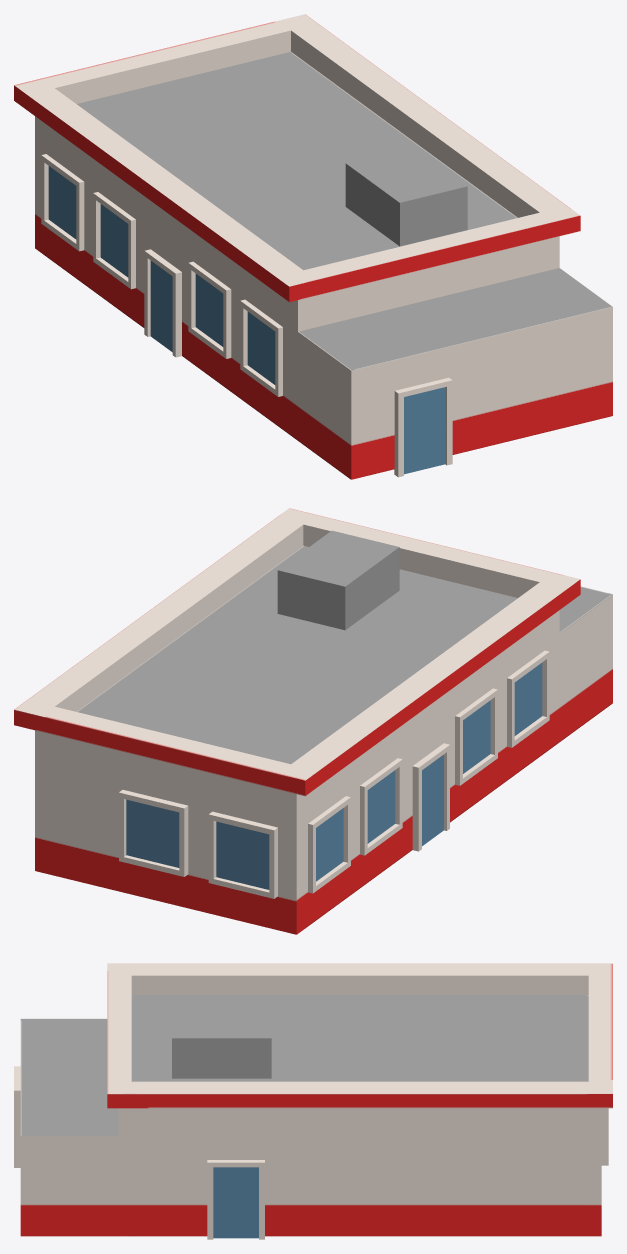
Rendered from GasStation.glb.
3 views of the same model, one above another, from view 1: azimuth 30°, elevation 25°; view 2: azimuth 150°, elevation 25°; view 3: azimuth 270°, elevation 25° (orthographic). The views are drawn at different scales.
Visible parts, largest first — view 1: GasStation; view 2: GasStation; view 3: GasStation.
Part boxes in pixels (<box>): GasStation: <box>14,14,612,479</box>; GasStation: <box>14,508,612,934</box>; GasStation: <box>14,963,612,1239</box>.
Size of what is drawn, in the model's own units: 7.14 by 4.45 by 13.84.
1 material, 1 textured.
